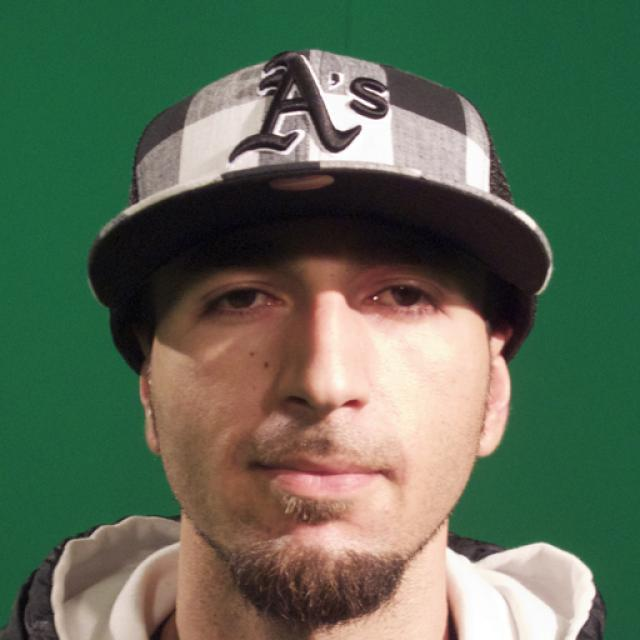neutral: (155, 236, 489, 612)
